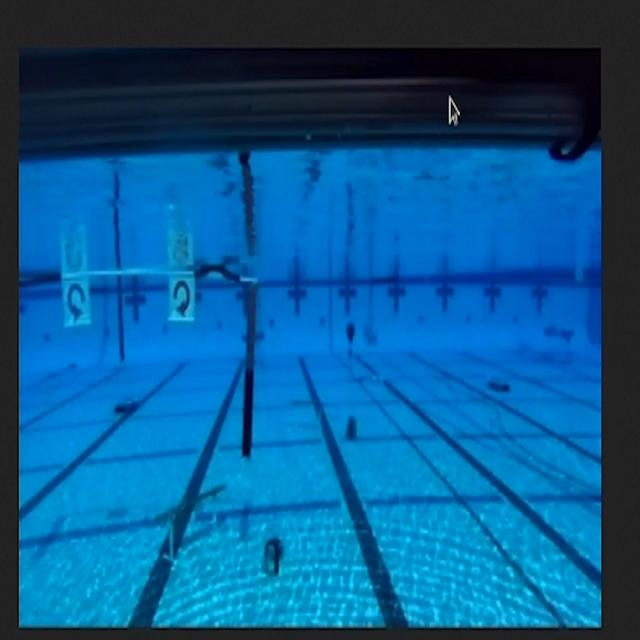Gate: (18, 266, 261, 491)
